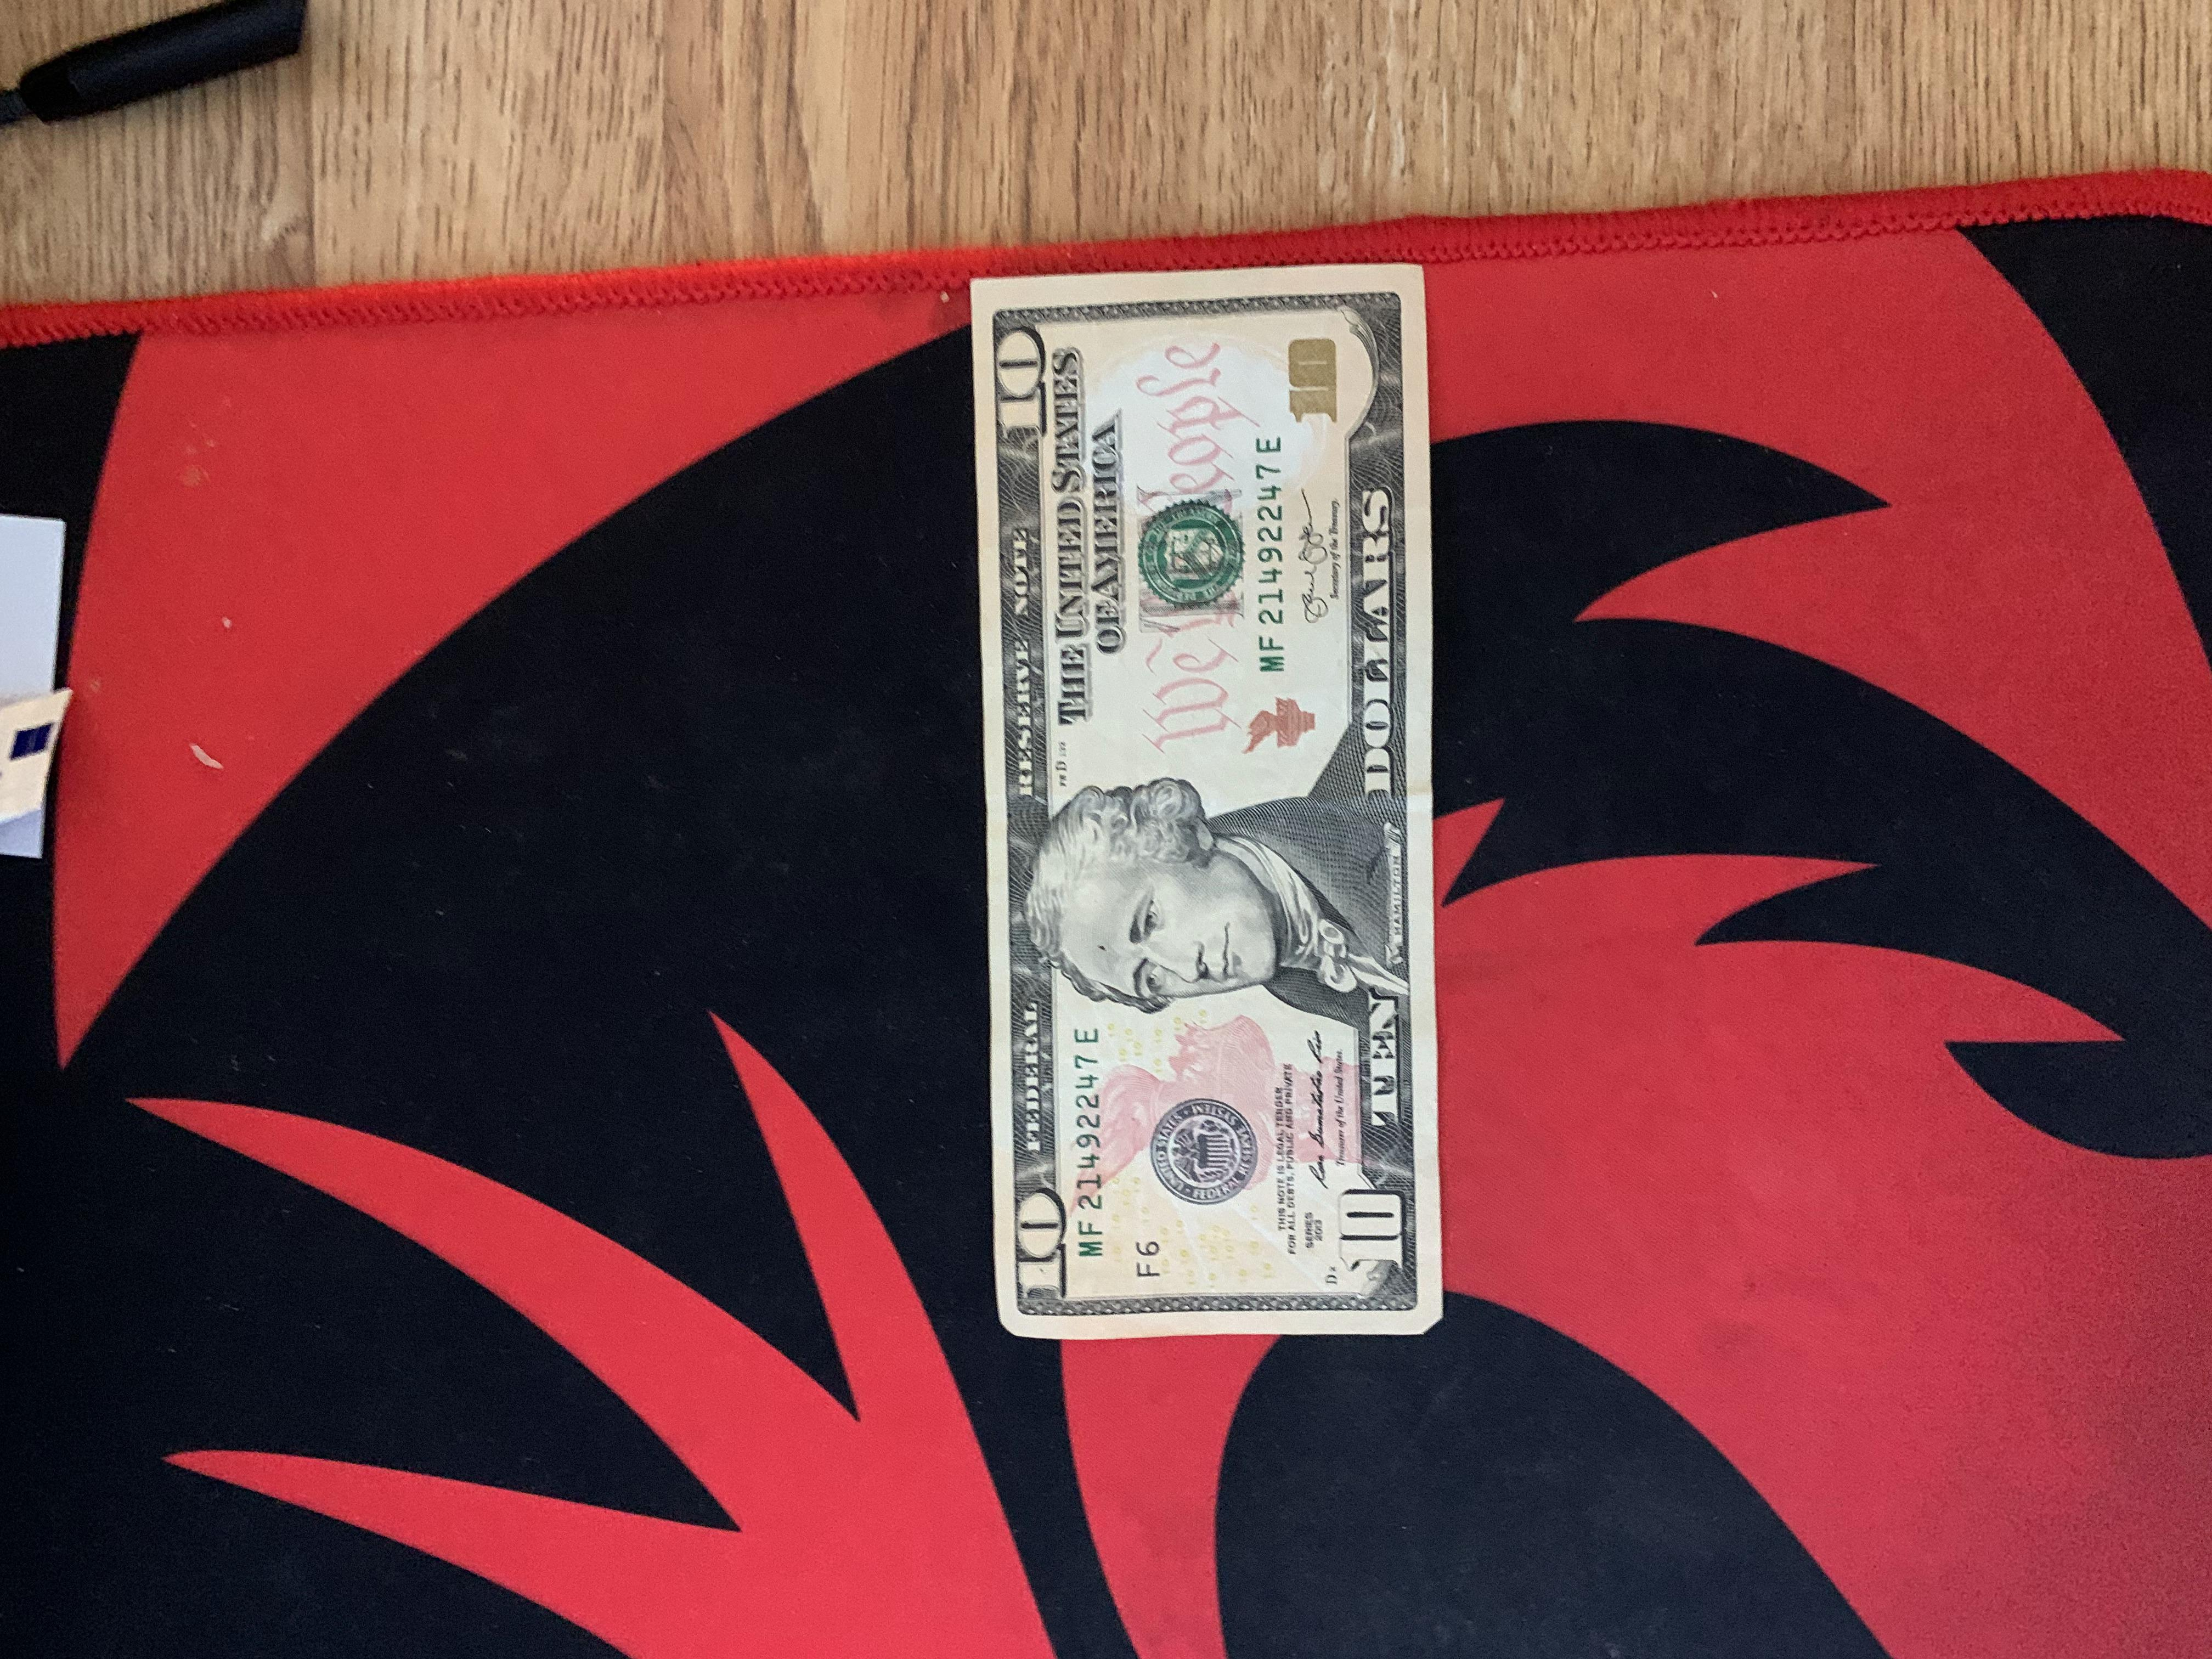TenBill: (963, 265, 1446, 1344)
